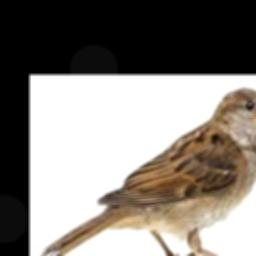Sparrow: (40, 88, 256, 256)
